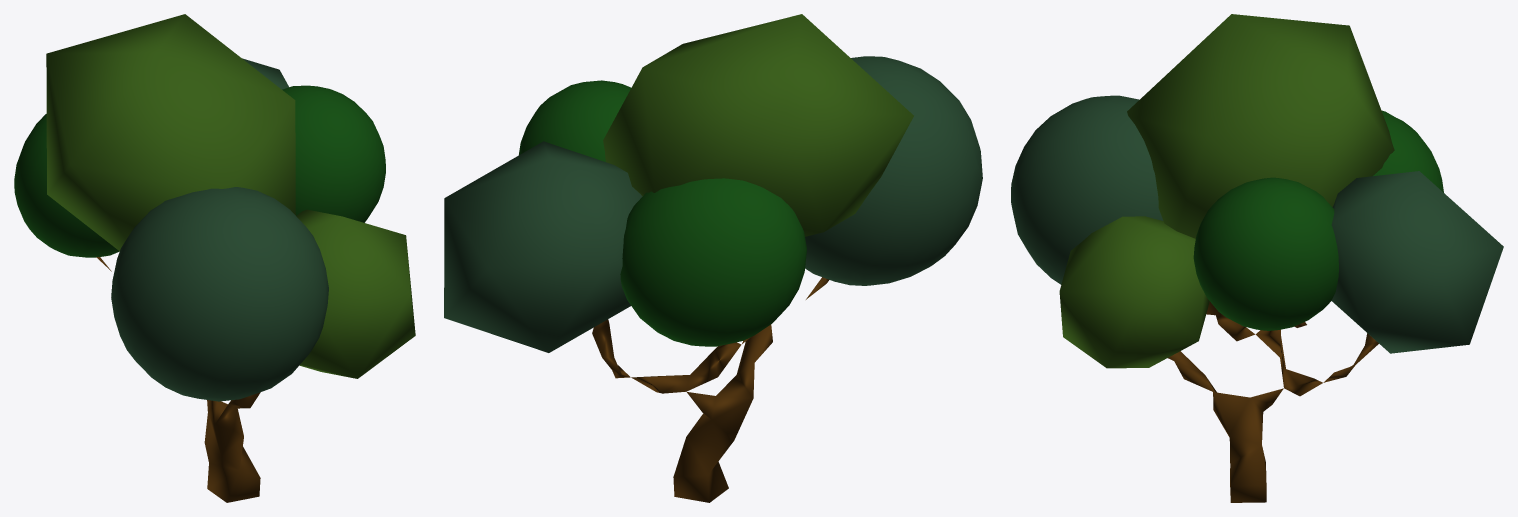
File: tree4_cityedit-medium-C1iSVg58.glb
The picture shows the model from 3 angles, left to right: view 1: azimuth 30°, elevation 25°; view 2: azimuth 150°, elevation 25°; view 3: azimuth 270°, elevation 25°; orthographic projection. The views are drawn at different scales.
Visible parts, largest first — view 1: Icosphere.002, Sphere.005, Icosphere.003, Sphere.003, Sphere.002, Cube, Icosphere; view 2: Icosphere.002, Icosphere, Sphere.002, Sphere.005, Cube, Sphere.003; view 3: Icosphere.002, Icosphere, Sphere.003, Icosphere.003, Sphere.005, Cube, Sphere.002.
Part boxes in pixels (x1=…): Icosphere.002: x1=46, y1=14, x2=295, y2=251; Sphere.005: x1=111, y1=187, x2=328, y2=401; Icosphere.003: x1=296, y1=209, x2=415, y2=378; Sphere.003: x1=282, y1=85, x2=385, y2=222; Sphere.002: x1=14, y1=114, x2=119, y2=257; Cube: x1=96, y1=257, x2=260, y2=502; Icosphere: x1=242, y1=58, x2=288, y2=89; Icosphere.002: x1=603, y1=14, x2=913, y2=236; Icosphere: x1=444, y1=141, x2=642, y2=352; Sphere.002: x1=620, y1=178, x2=806, y2=346; Sphere.005: x1=805, y1=56, x2=982, y2=285; Cube: x1=592, y1=277, x2=828, y2=502; Sphere.003: x1=519, y1=80, x2=630, y2=161; Icosphere.002: x1=1127, y1=14, x2=1394, y2=238; Icosphere: x1=1331, y1=171, x2=1503, y2=353; Sphere.003: x1=1193, y1=177, x2=1338, y2=330; Icosphere.003: x1=1059, y1=216, x2=1209, y2=368; Sphere.005: x1=1011, y1=95, x2=1163, y2=284; Cube: x1=1168, y1=301, x2=1378, y2=502; Sphere.002: x1=1373, y1=110, x2=1443, y2=192.
Bounding box in the file's own units: 8.39 × 11.26 × 11.38.
